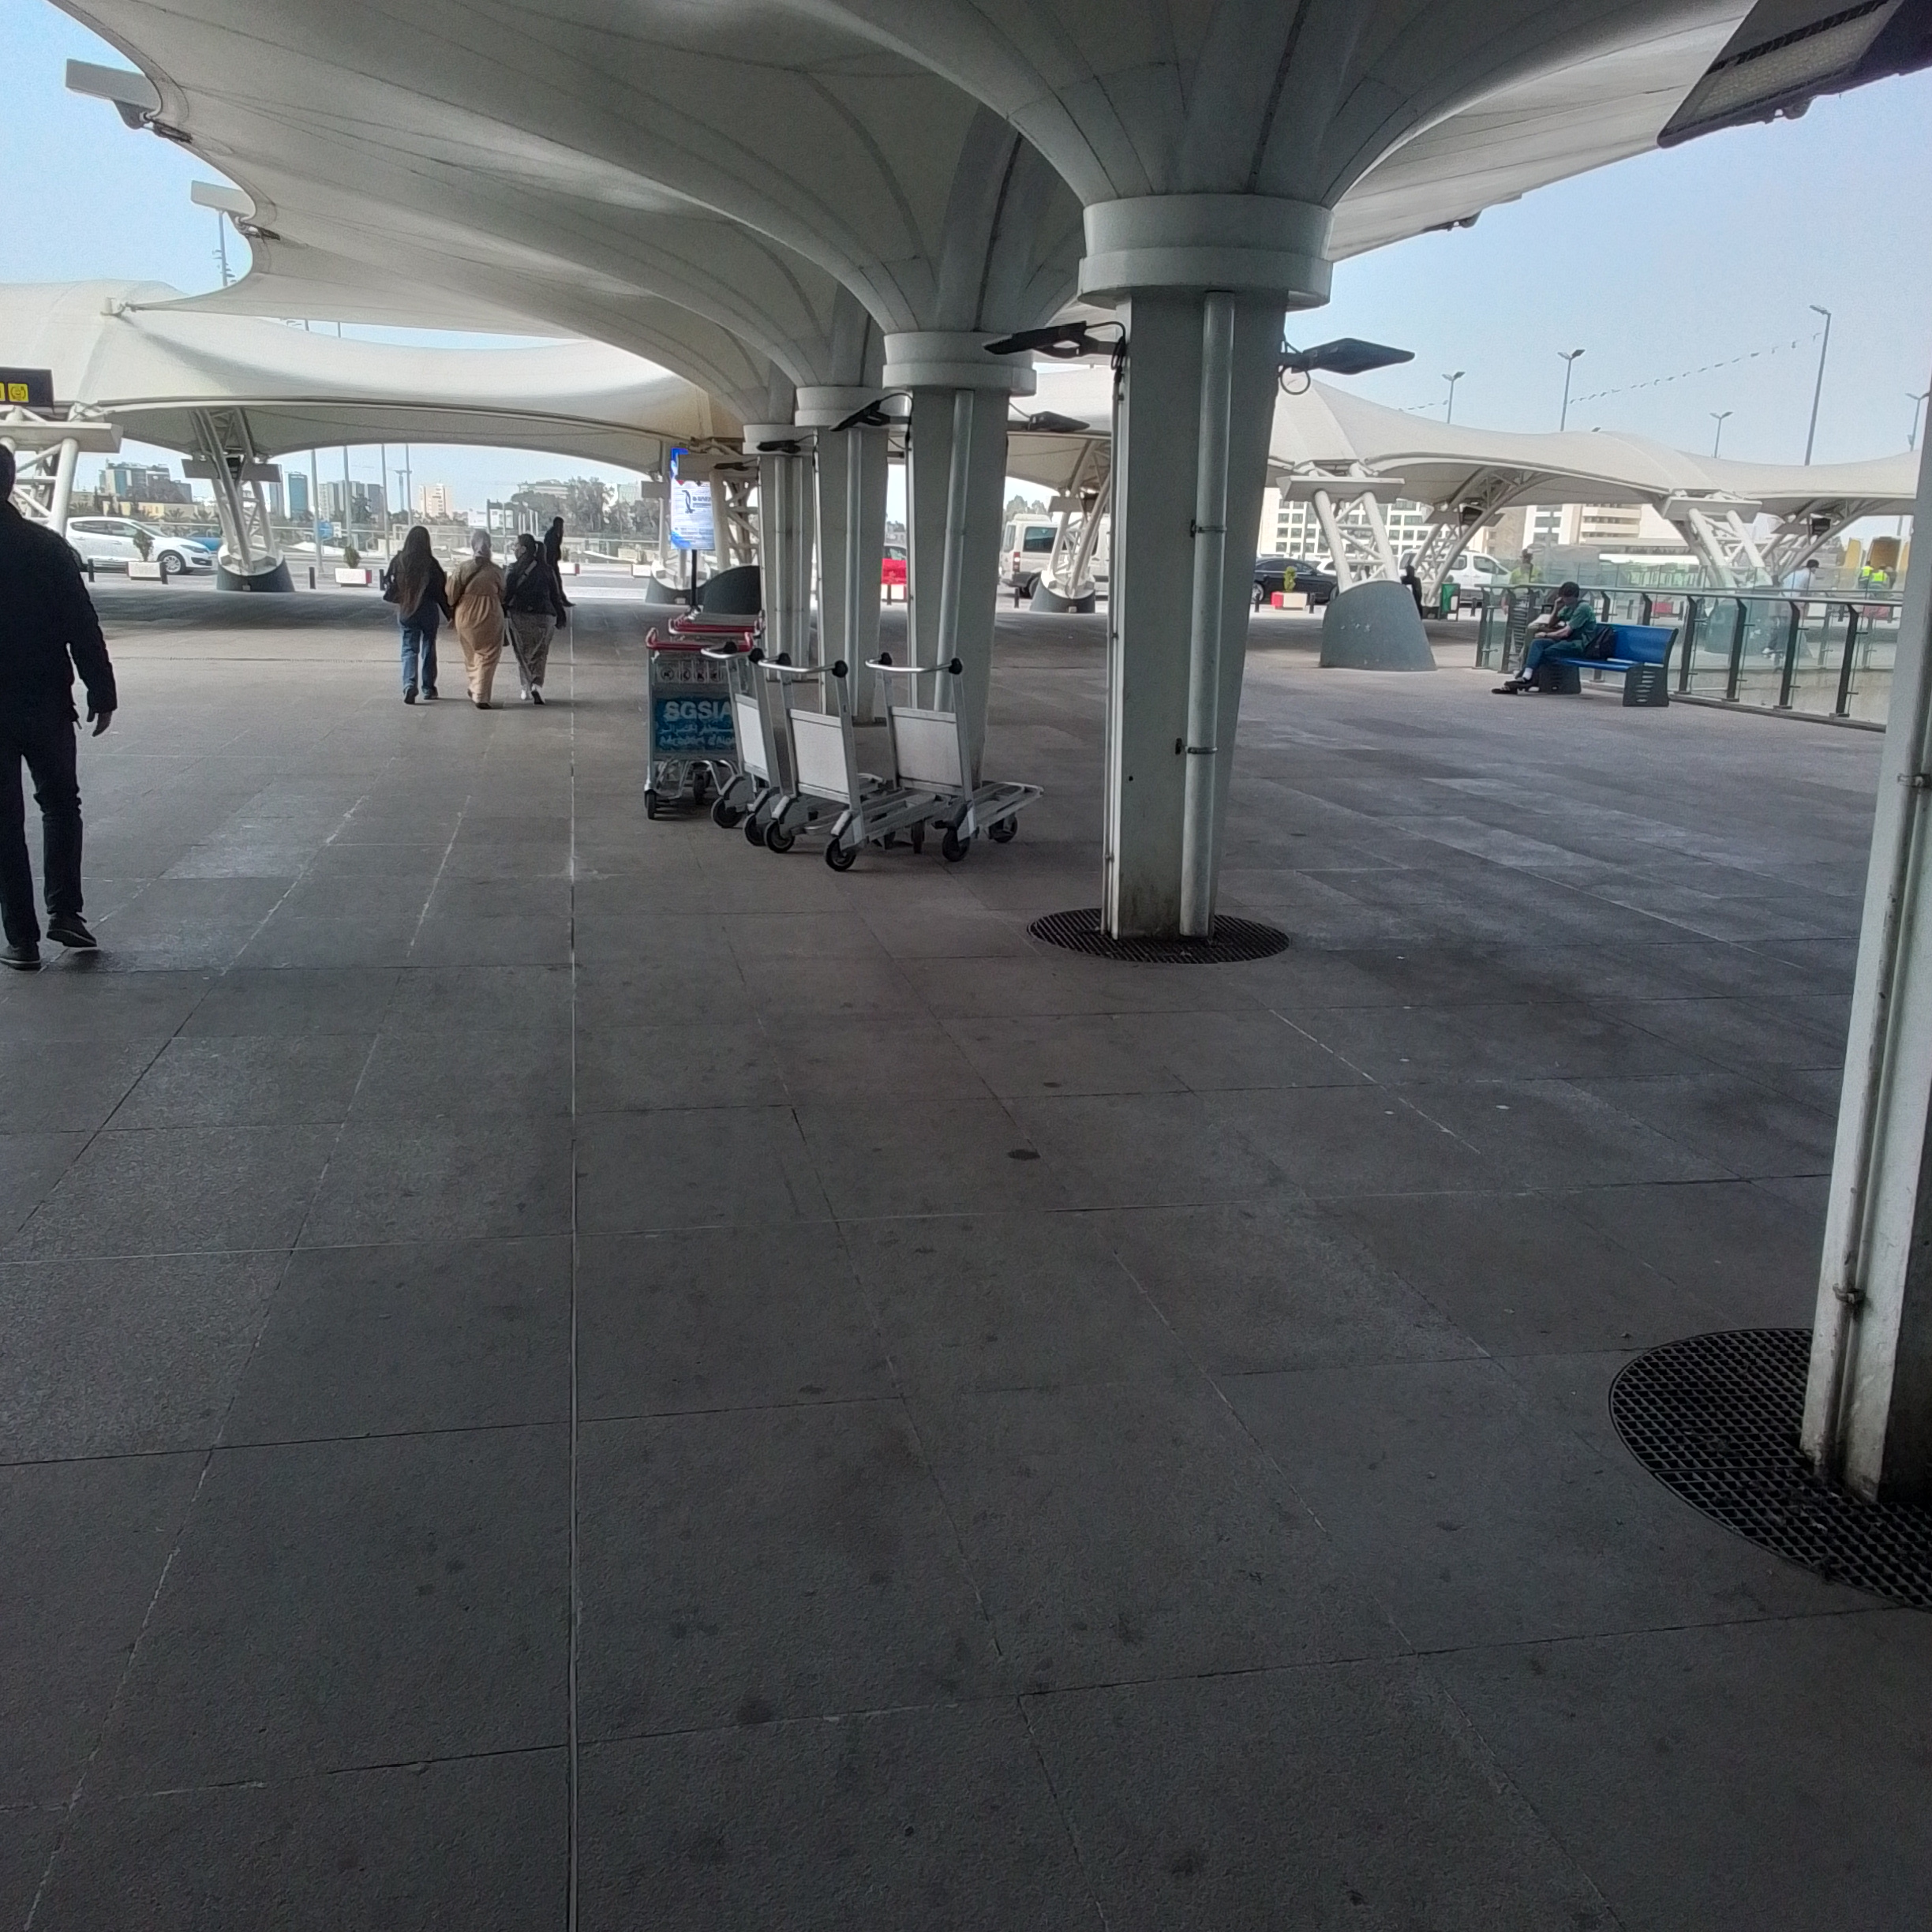airport-trolley: (766, 656, 943, 855), (870, 649, 1040, 851), (702, 628, 832, 833), (639, 632, 763, 816)
